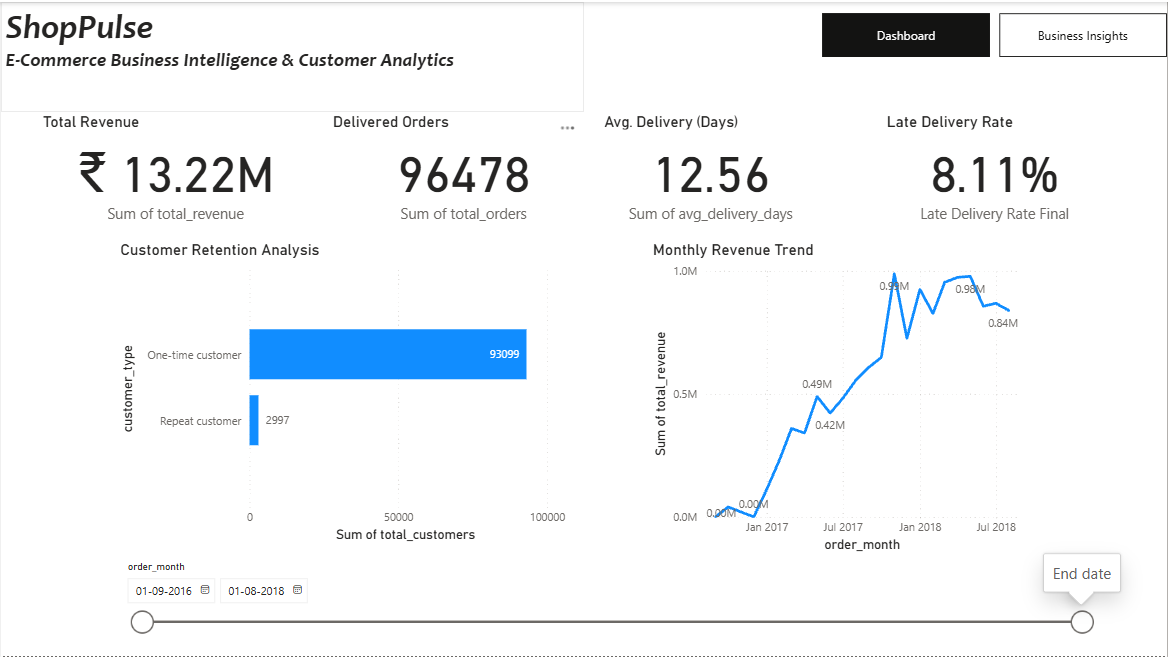

The dashboard page shown, as its layout file describes it:
{"tool":"powerbi","page":{"name":"Dashboard","canvas":[1280,720],"ordinal":0},"visuals":[{"type":"lineChart","title":"Monthly Revenue Trend","fields":{"Y":["Sum(analytics monthly_revenue.total_revenue)"],"Category":["analytics monthly_revenue.order_month"]},"box":[711.4,261.4,422.9,347.1],"z":0},{"type":"card","title":"Total Revenue","fields":{"Values":["Sum(analytics monthly_revenue.total_revenue)"]},"box":[41.4,121.4,301.4,125.7],"z":1000},{"type":"card","title":"Delivered Orders","fields":{"Values":["Sum(analytics monthly_revenue.total_orders)"]},"box":[360,121.4,297.1,125.7],"z":2000},{"type":"card","title":"Avg. Delivery (Days)","fields":{"Values":["Sum(analytics delivery_performance.avg_delivery_days)"]},"box":[657.1,121.4,244.3,125.7],"z":3000},{"type":"clusteredBarChart","title":"Customer Retention Analysis","fields":{"Category":["analytics customer_retention.customer_type"],"Y":["Sum(analytics customer_retention.total_customers)"]},"box":[125.7,261.4,514.3,335.7],"z":4000},{"type":"card","title":"Late Delivery Rate","fields":{"Values":["analytics customer_retention.Late Delivery Rate Final"]},"box":[967.1,121.4,247.1,125.7],"z":5000},{"type":"slicer","fields":{"Values":["analytics monthly_revenue.order_month"]},"box":[125.7,608.6,1081.4,101.4],"z":6000},{"type":"textbox","box":[0,0,640,121.4],"z":7000},{"type":"pageNavigator","box":[901.4,12.9,378.6,48.6],"z":8000}]}

Visuals, with their boxes in screenshot pixels (x1, y1, x2, y2), scaled from the page's 1280x720 canvas onto the 1168x657 screenshot:
"Monthly Revenue Trend" lineChart: left=649, top=239, right=1035, bottom=555
"Total Revenue" card: left=38, top=111, right=313, bottom=225
"Delivered Orders" card: left=328, top=111, right=600, bottom=225
"Avg. Delivery (Days)" card: left=600, top=111, right=823, bottom=225
"Customer Retention Analysis" clusteredBarChart: left=115, top=239, right=584, bottom=545
"Late Delivery Rate" card: left=882, top=111, right=1108, bottom=225
slicer - analytics monthly_revenue.order_month: left=115, top=555, right=1101, bottom=648
textbox: left=0, top=0, right=584, bottom=111
pageNavigator: left=823, top=12, right=1167, bottom=56
